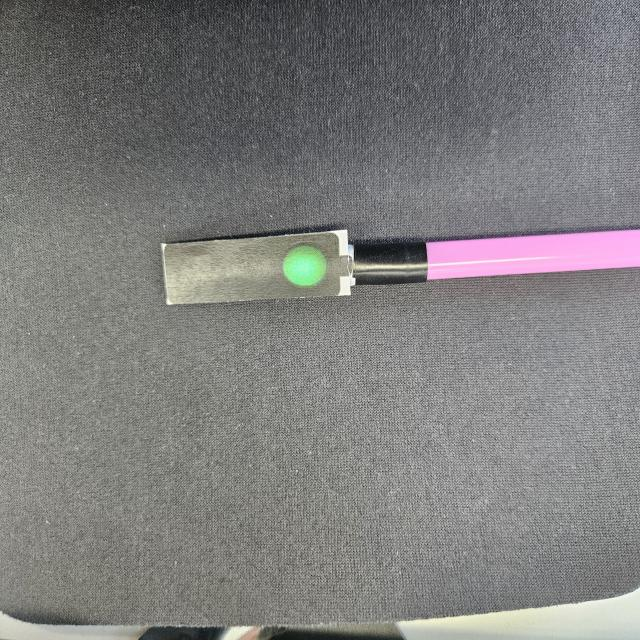traffic light: (161, 231, 354, 309)
